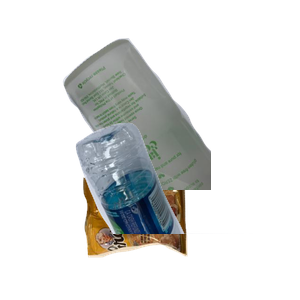glass: (60, 36, 300, 216)
metal: (75, 56, 198, 185)
plastic: (73, 120, 300, 300)
trash: (81, 168, 261, 300)
